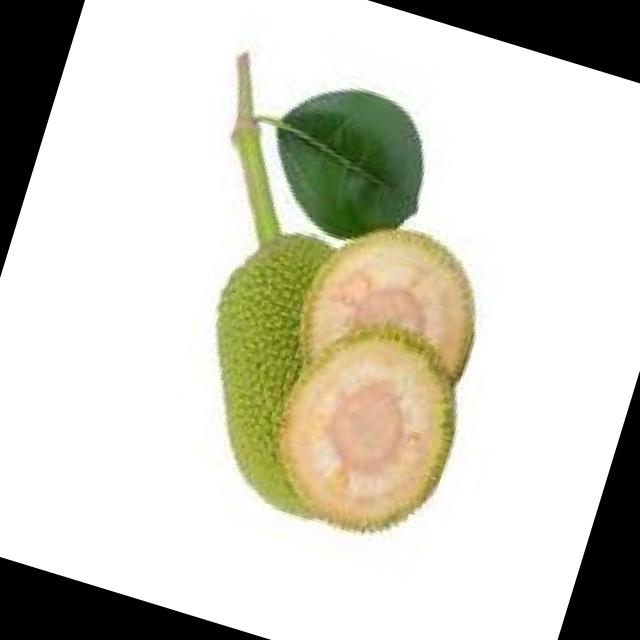Fruit: (133, 144, 541, 596)
